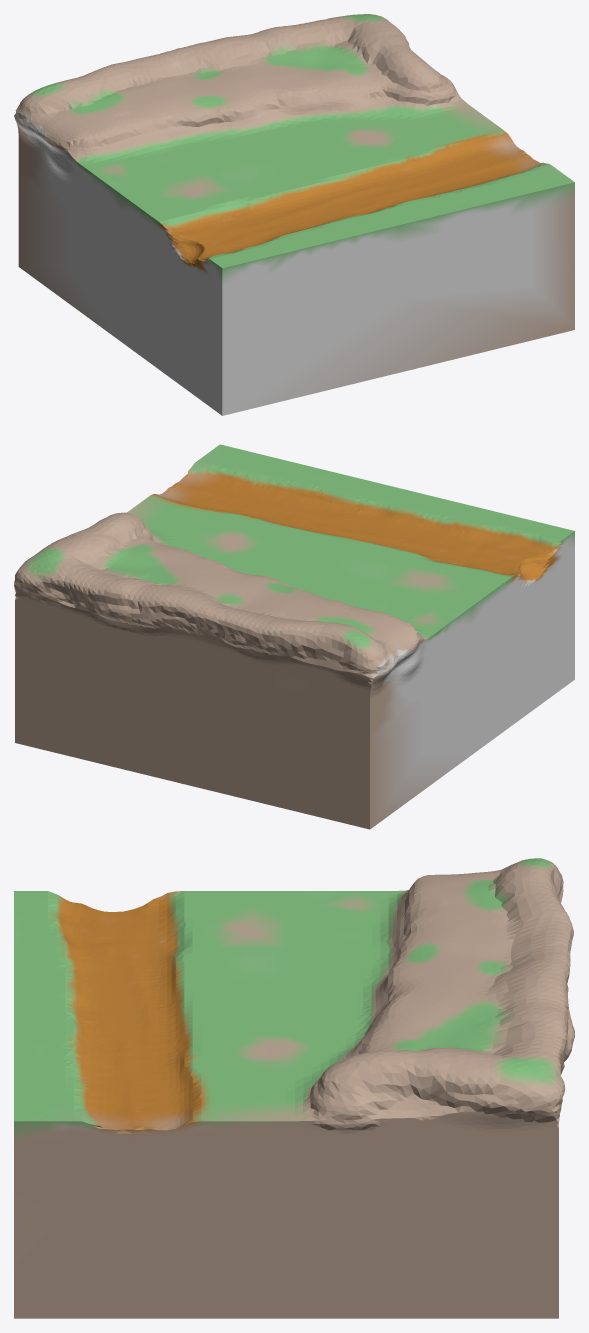
The model's file is chunck3.gltf.
3 views of the same model, one above another, from view 1: azimuth 30°, elevation 25°; view 2: azimuth 150°, elevation 25°; view 3: azimuth 270°, elevation 25° (orthographic). The views are drawn at different scales.
Visible parts, largest first — view 1: Cube.004; view 2: Cube.004; view 3: Cube.004.
Boxes of the visible parts, <box> form: Cube.004: <box>14,14,574,415</box>; Cube.004: <box>14,444,574,829</box>; Cube.004: <box>14,858,574,1318</box>.
Bounding box in the file's own units: 105 × 49.5 × 103.
